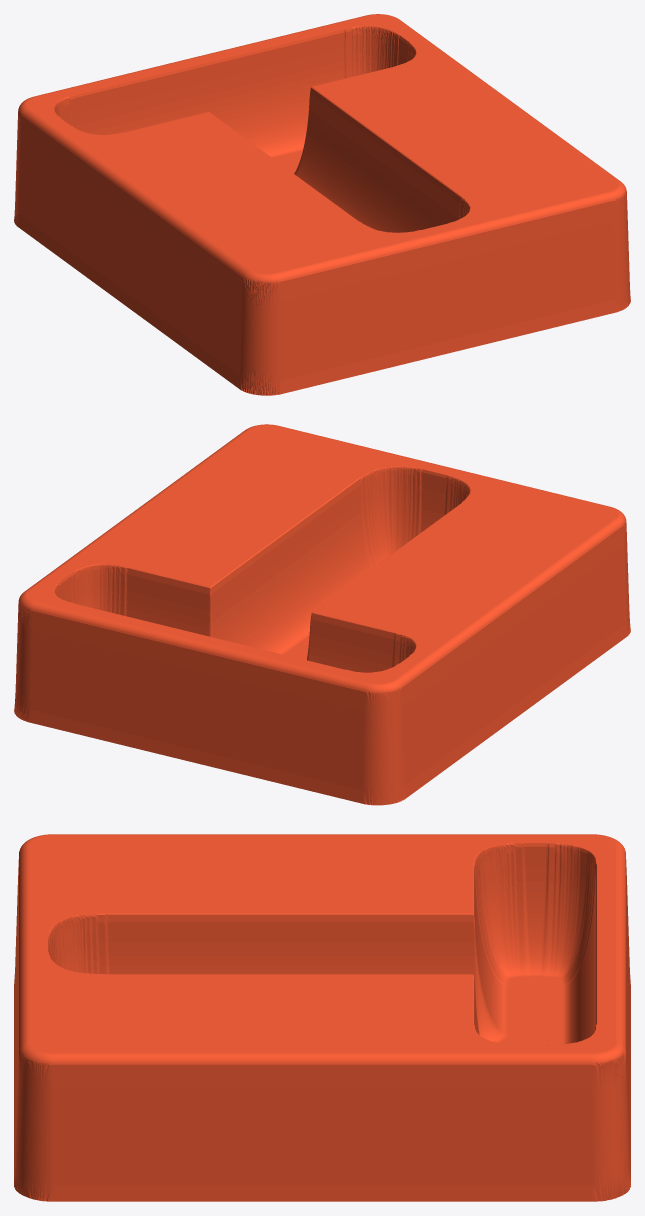
The model's file is mold.glb.
3 views of the same model, one above another, from view 1: azimuth 30°, elevation 25°; view 2: azimuth 150°, elevation 25°; view 3: azimuth 270°, elevation 25° (orthographic). The views are drawn at different scales.
Visible parts, largest first — view 1: geometry_0; view 2: geometry_0; view 3: geometry_0.
Boxes of the visible parts, bbox=[...] form: geometry_0: bbox=[14, 14, 630, 395]; geometry_0: bbox=[14, 424, 630, 805]; geometry_0: bbox=[14, 834, 630, 1201].
Bounding box in the file's own units: 0.127 × 0.0365 × 0.1435.
